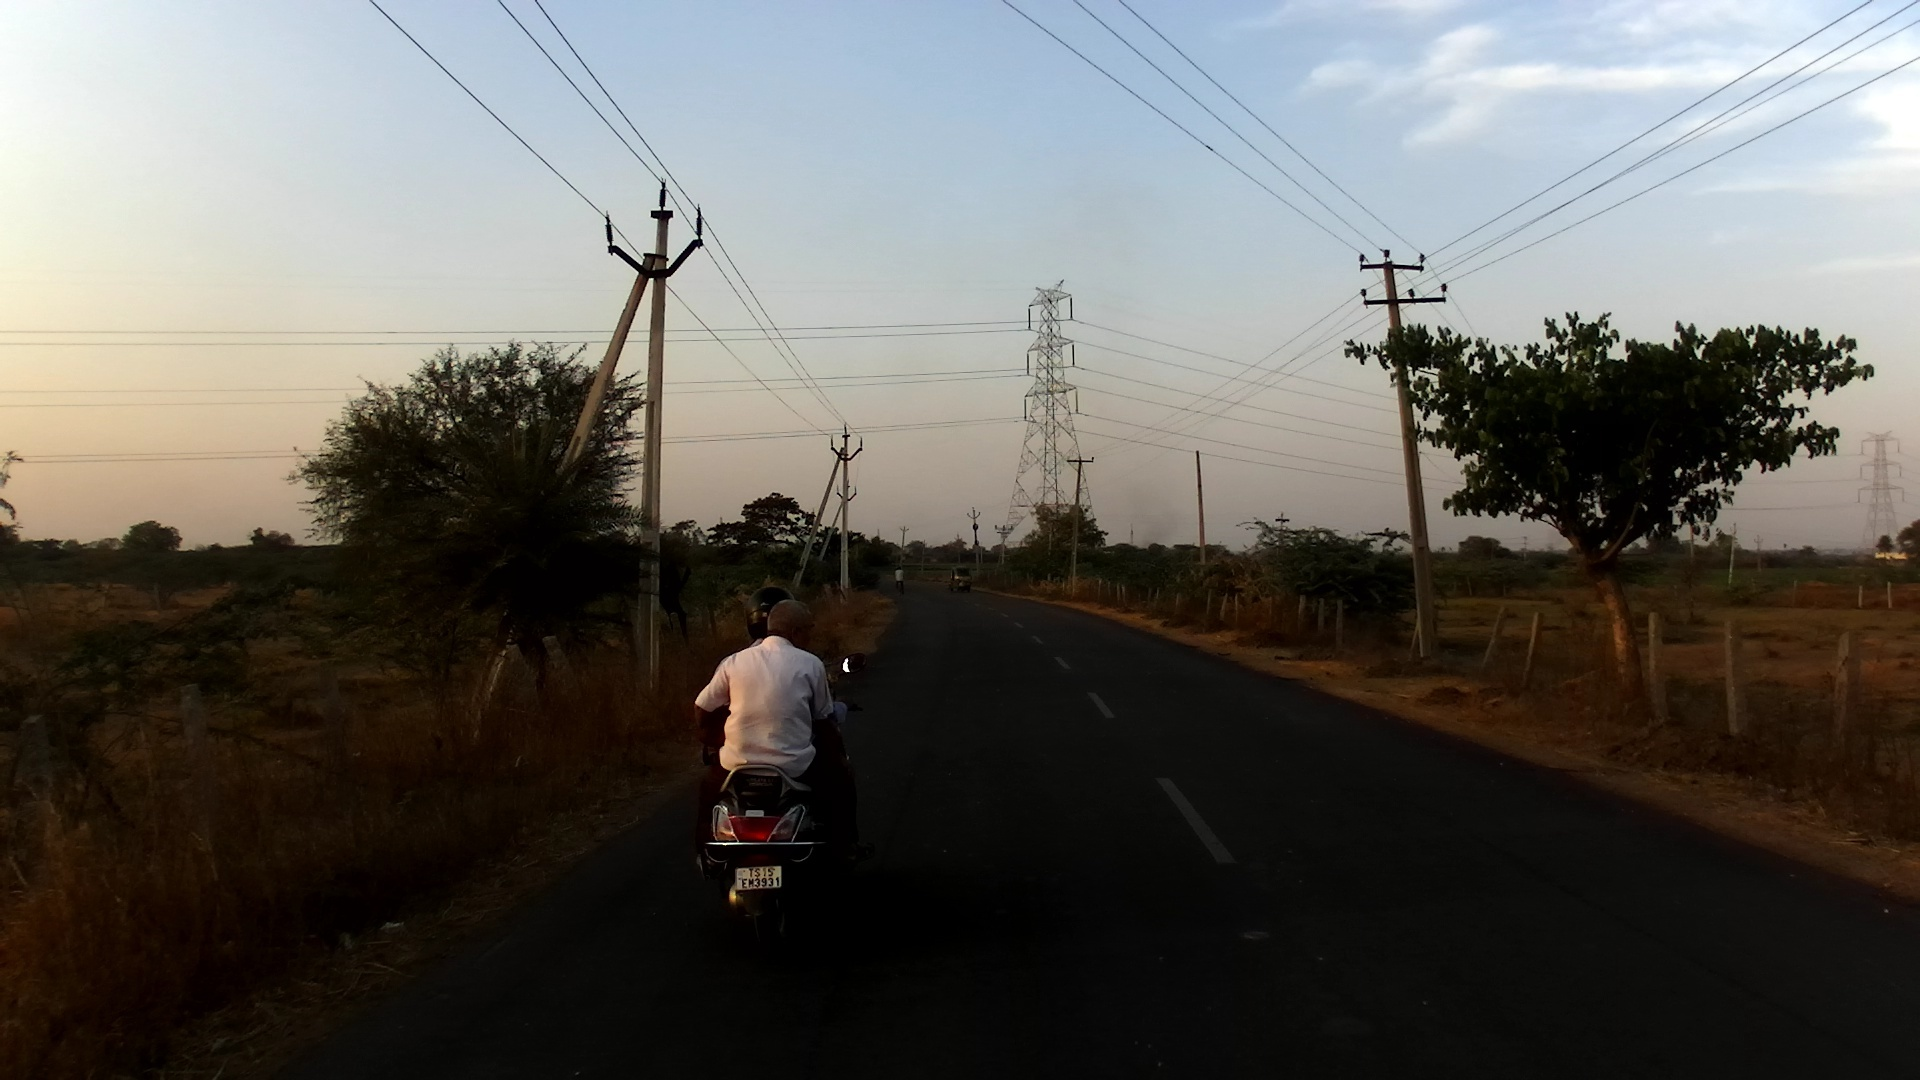autorickshaw: (946, 566, 971, 597)
bicycle: (896, 574, 906, 595)
motorcycle: (682, 650, 870, 957)
rider: (694, 599, 876, 870), (706, 586, 854, 776), (895, 563, 910, 595)
